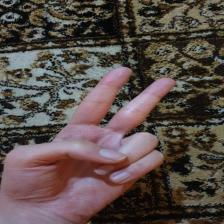two: (23, 67, 181, 195)
